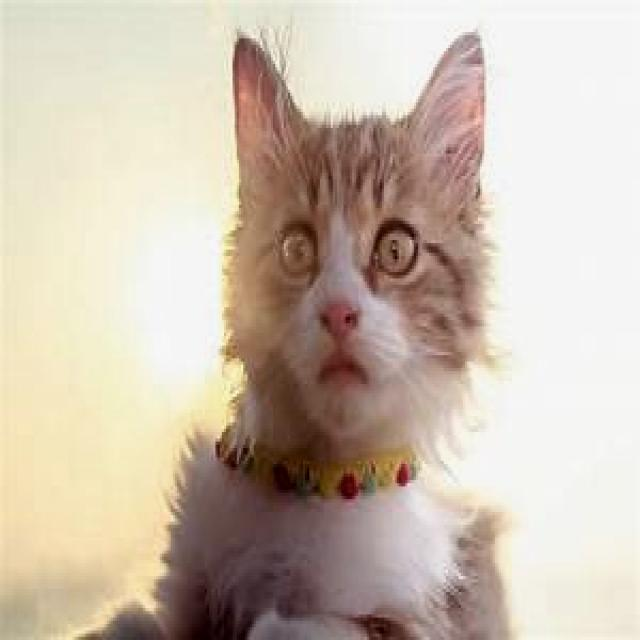KEDI: (160, 29, 516, 640)
